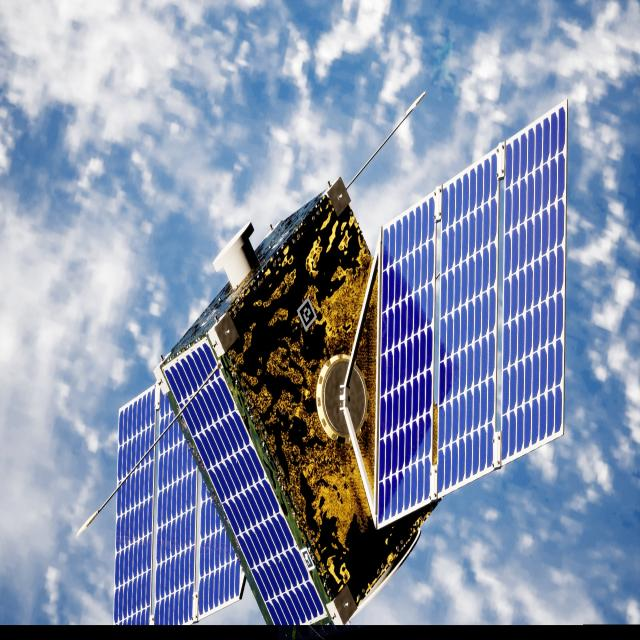medium_debris: (113, 109, 568, 629)
